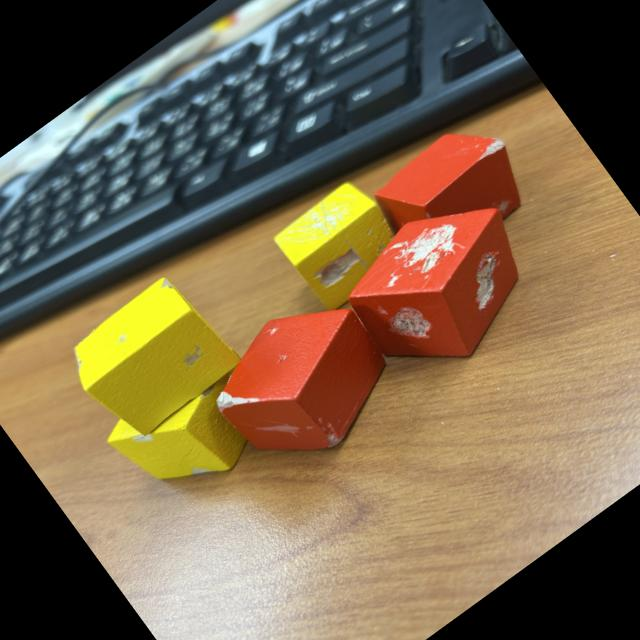broken: (326, 174, 558, 398), (194, 277, 411, 488), (58, 268, 244, 449), (100, 345, 282, 518), (362, 106, 540, 277), (271, 174, 414, 316)
